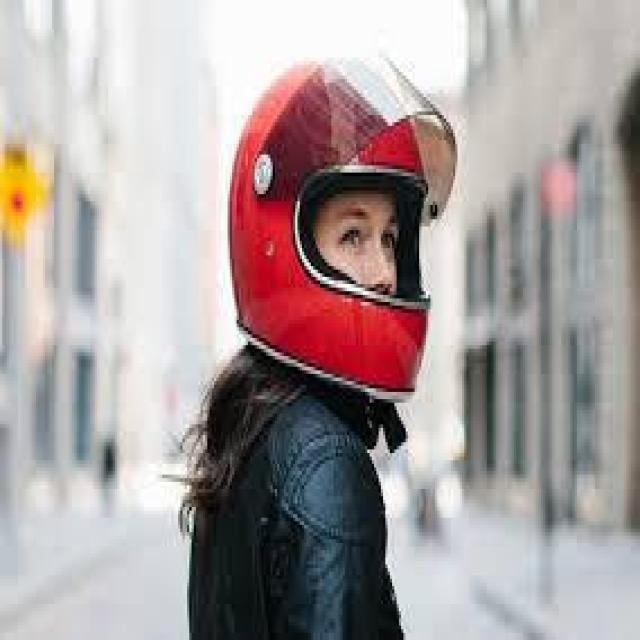5_casco: (228, 52, 456, 394)
